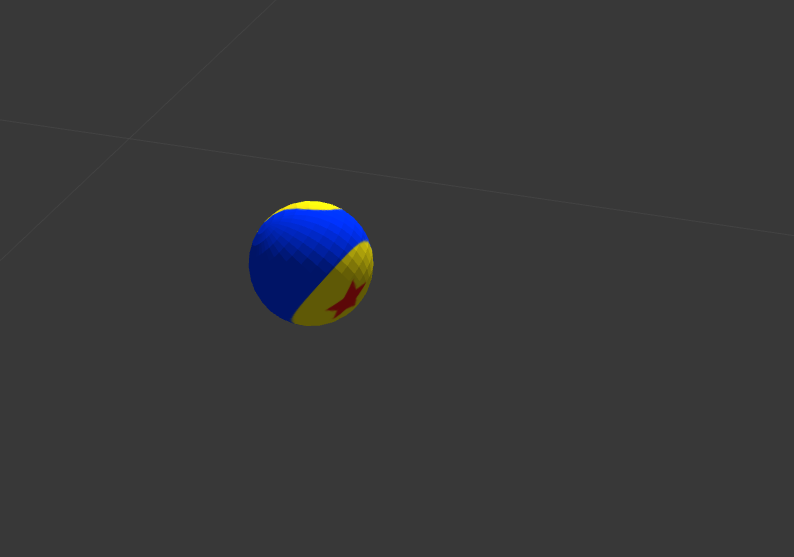toy story ball: (248, 200, 373, 326)
